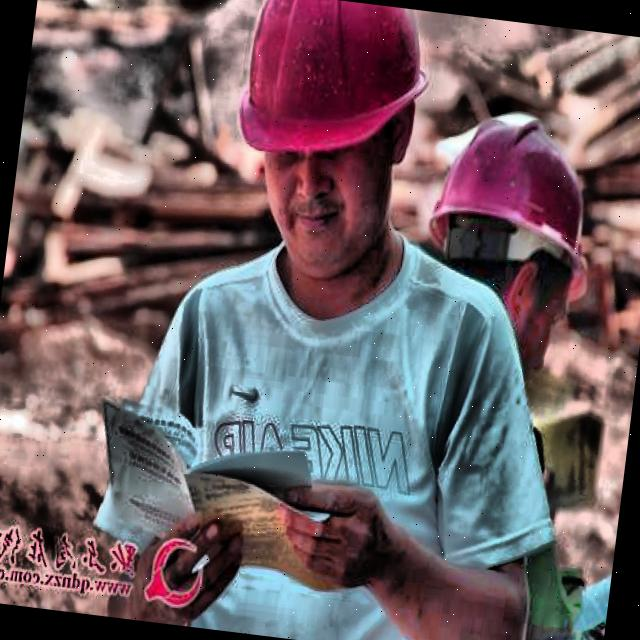helmet: (195, 0, 463, 304), (414, 81, 616, 349)
